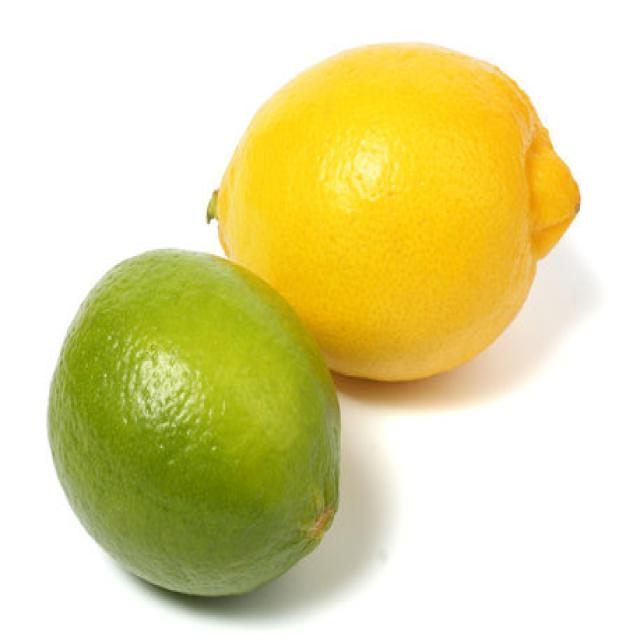Lemon: (205, 39, 580, 382), (45, 245, 341, 598)
